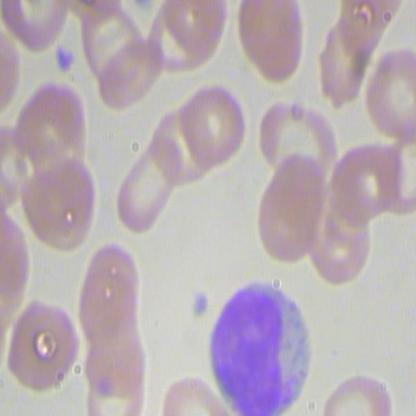Platelets: (51, 42, 75, 78), (192, 293, 211, 320)
RBC: (253, 152, 325, 271), (107, 132, 185, 235), (20, 153, 98, 256), (2, 300, 80, 402), (256, 99, 341, 188), (305, 183, 375, 285), (233, 1, 310, 90), (176, 80, 252, 170), (363, 44, 416, 146), (97, 37, 166, 114), (320, 367, 396, 415), (160, 375, 229, 416)
WBC: (206, 275, 317, 415)
